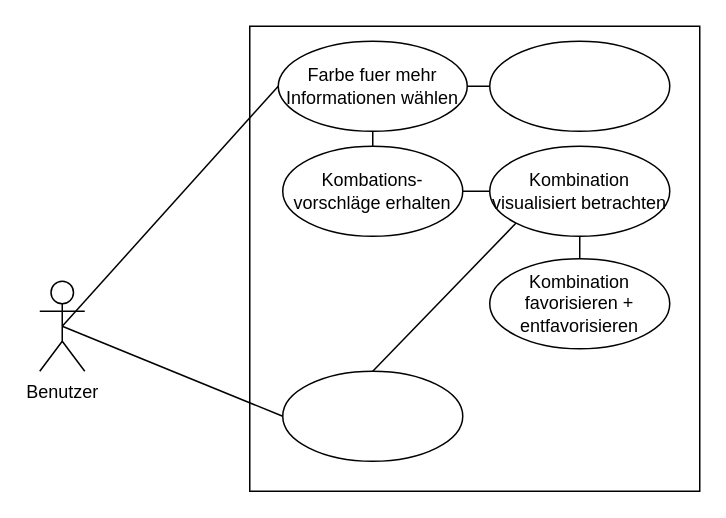
The diagram is 726 pixels wide and 518 high, and some of its shapes have lost their labels. Here are the shapes that lost their labels. From the top down, the box of each, then its label:
(488, 40, 670, 131): Informationen über Farbe erhalten
(281, 370, 463, 461): Favorisierte Kombinationen anschauen
